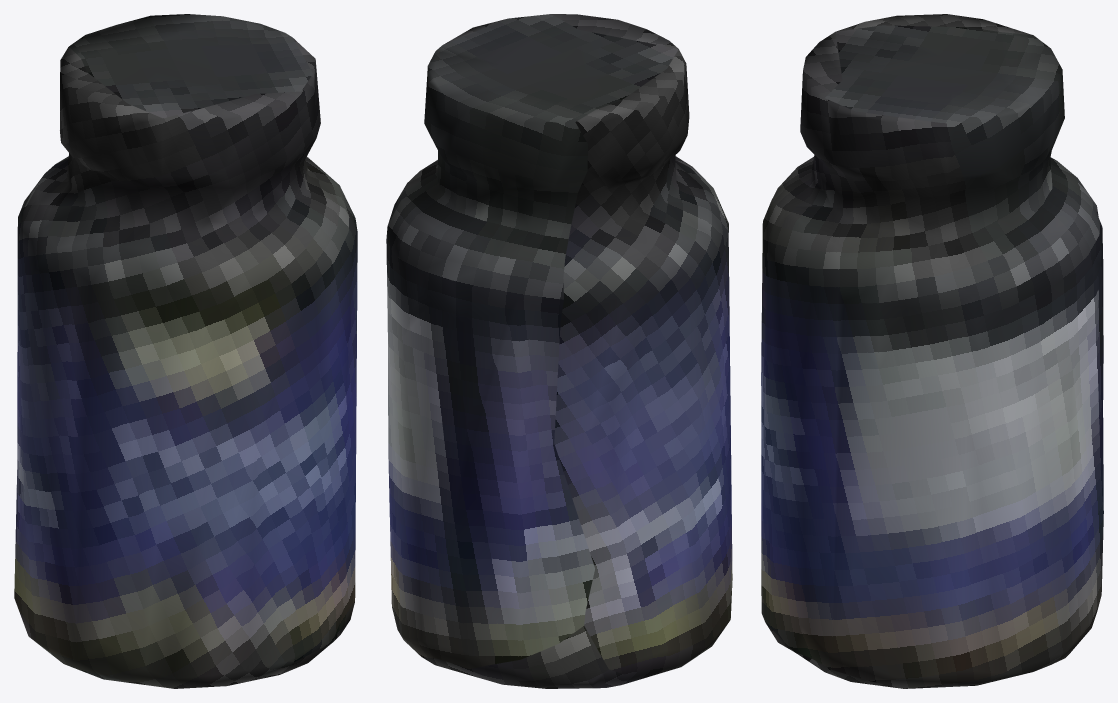
Rendered from Prostate_Optimizer-low.glb.
3 views of the same model, side by side, from view 1: azimuth 30°, elevation 25°; view 2: azimuth 150°, elevation 25°; view 3: azimuth 270°, elevation 25° (orthographic).
Visible parts, largest first — view 1: Prostate_Optimizer; view 2: Prostate_Optimizer; view 3: Prostate_Optimizer.
Boxes of the visible parts, x1,y1,x2,y2 form: Prostate_Optimizer: (14, 14, 357, 688); Prostate_Optimizer: (386, 14, 732, 688); Prostate_Optimizer: (761, 14, 1103, 688).
Size of the model in its own units: 0.0609 by 0.1102 by 0.0609.
Materials: 1 (1 with a texture image).
